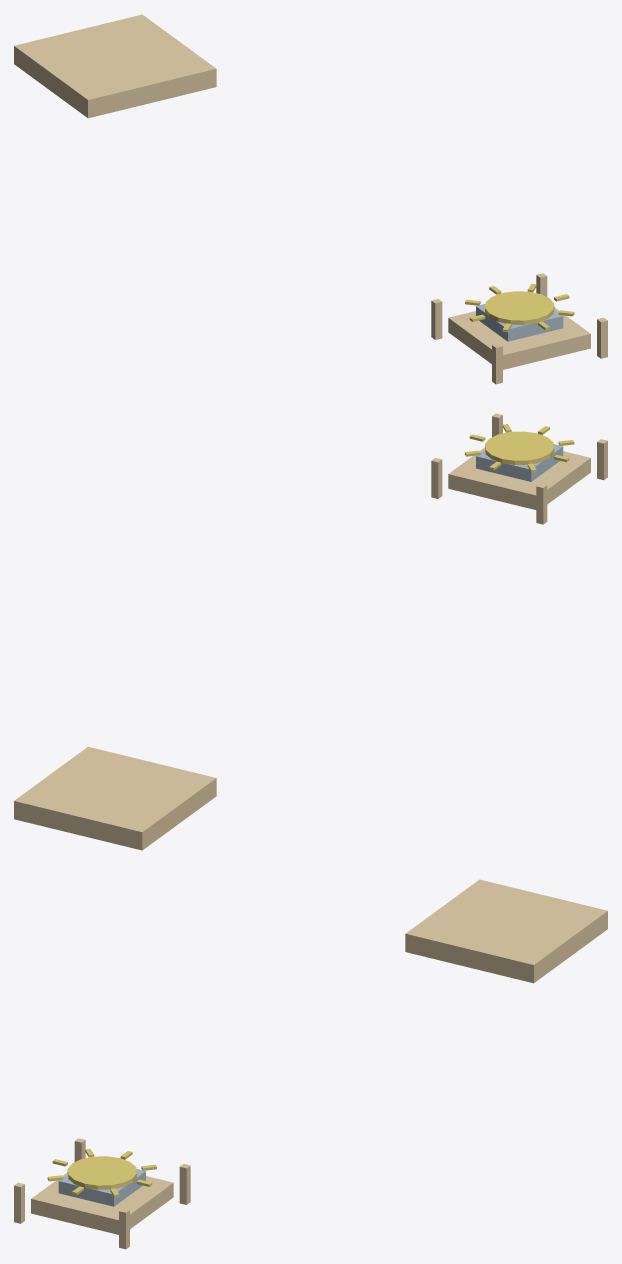
Rendered from PROP_SunAltar.fbx.
The picture shows the model from 3 angles, top to bottom: view 1: azimuth 30°, elevation 25°; view 2: azimuth 150°, elevation 25°; view 3: azimuth 330°, elevation 25°; orthographic projection.
Visible parts, largest first — view 1: PROP_SunAltar, PROP_SunAltar_Tier2, PROP_SunAltar_Disc, PROP_SunAltar_Tier3; view 2: PROP_SunAltar, PROP_SunAltar_Tier2, PROP_SunAltar_Disc, PROP_SunAltar_Tier3; view 3: PROP_SunAltar, PROP_SunAltar_Tier2, PROP_SunAltar_Disc, PROP_SunAltar_Tier3.
Part boxes in pixels (left/top/right/bottom): PROP_SunAltar: left=14, top=14, right=216, bottom=118; PROP_SunAltar_Tier2: left=448, top=307, right=590, bottom=369; PROP_SunAltar_Disc: left=485, top=291, right=554, bottom=324; PROP_SunAltar_Tier3: left=476, top=304, right=563, bottom=341; PROP_SunAltar: left=14, top=746, right=216, bottom=850; PROP_SunAltar_Tier2: left=448, top=447, right=590, bottom=509; PROP_SunAltar_Disc: left=485, top=431, right=554, bottom=464; PROP_SunAltar_Tier3: left=476, top=444, right=563, bottom=481; PROP_SunAltar: left=405, top=879, right=607, bottom=983; PROP_SunAltar_Tier2: left=31, top=1172, right=173, bottom=1234; PROP_SunAltar_Disc: left=67, top=1156, right=136, bottom=1189; PROP_SunAltar_Tier3: left=58, top=1169, right=145, bottom=1206.
Bounding box in the file's own units: 220 × 108 × 1406.
